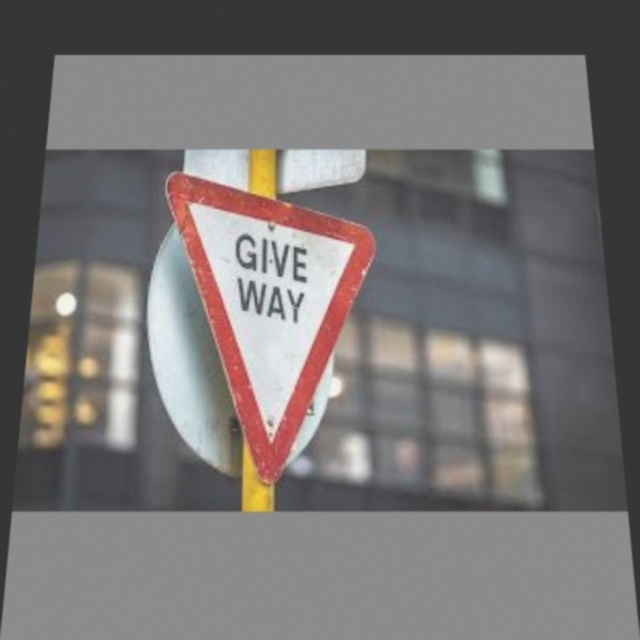Give_Way: (158, 174, 379, 485)
